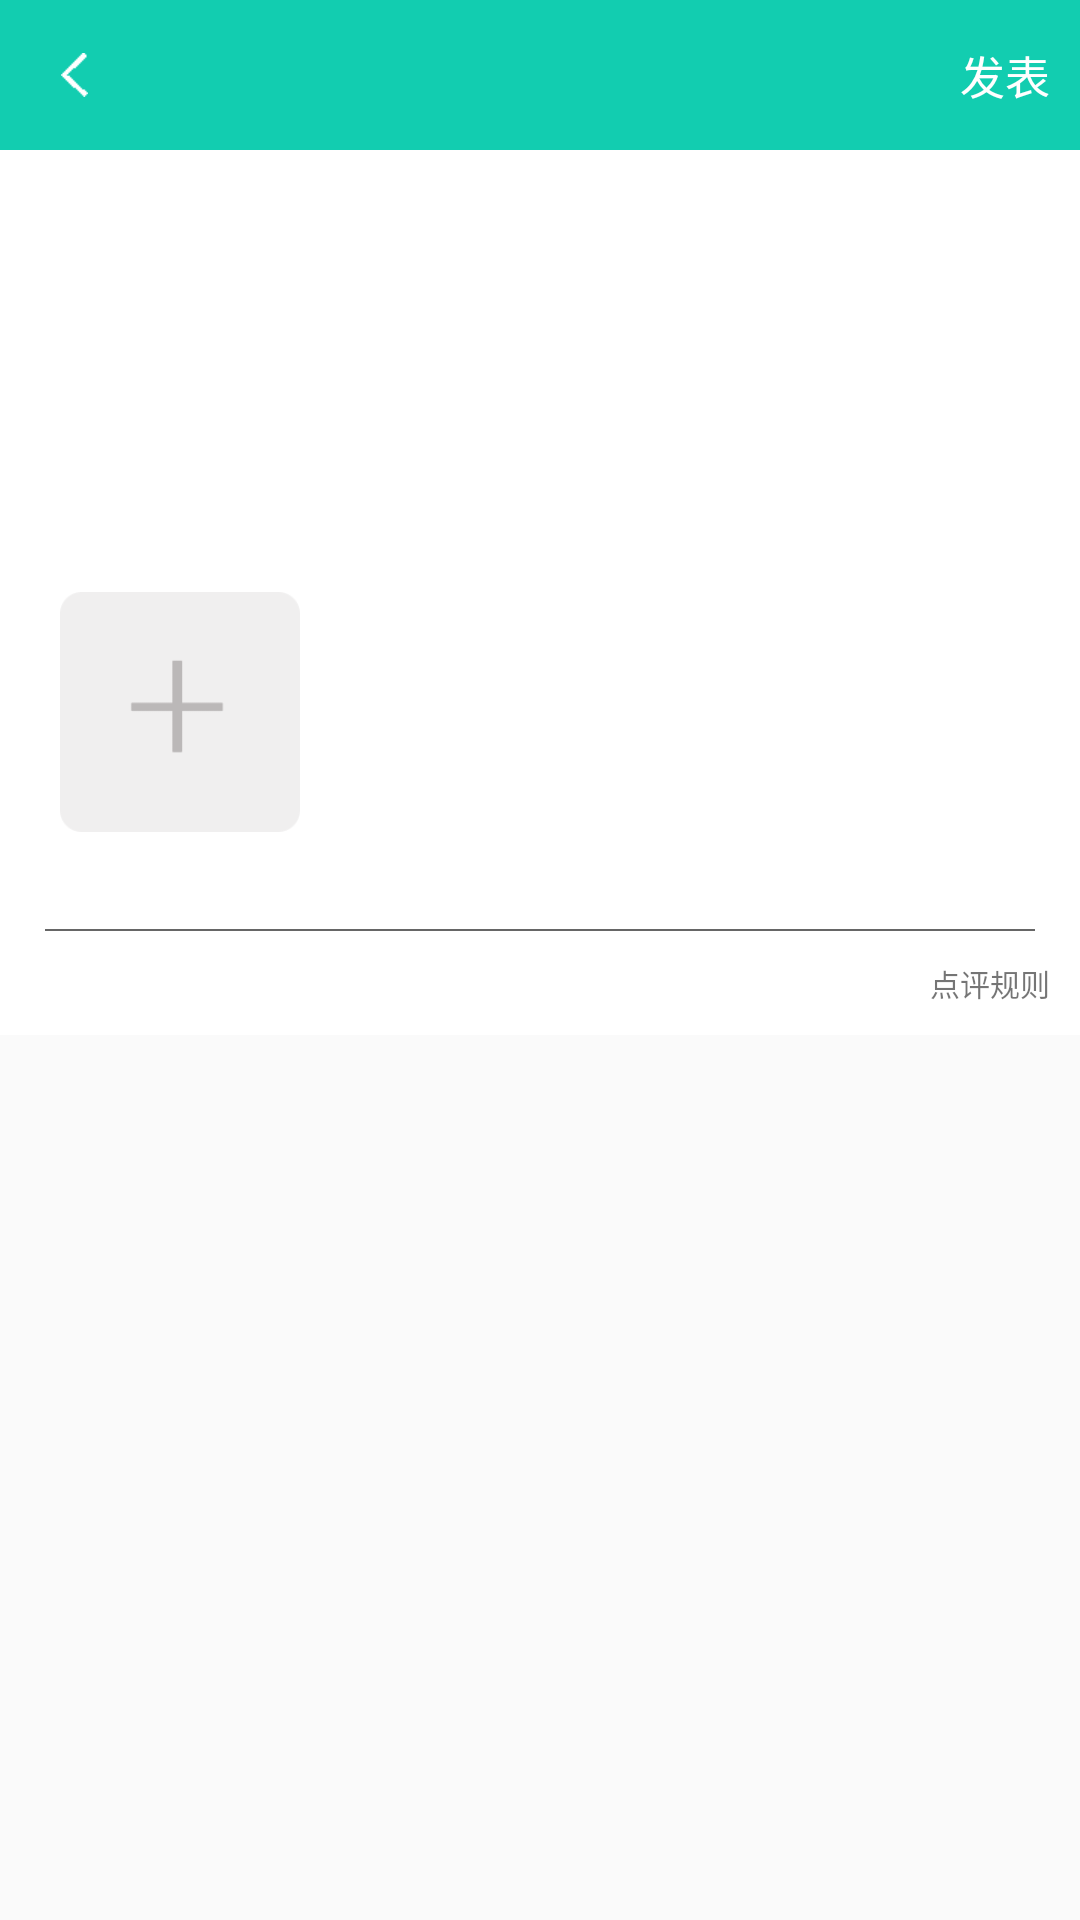

Icon bounding boxes for this 1080*1920 phone screenshot, format (x1, y1, x2, y2):
add picture: (60, 592, 300, 832)
back: (61, 53, 88, 97)
